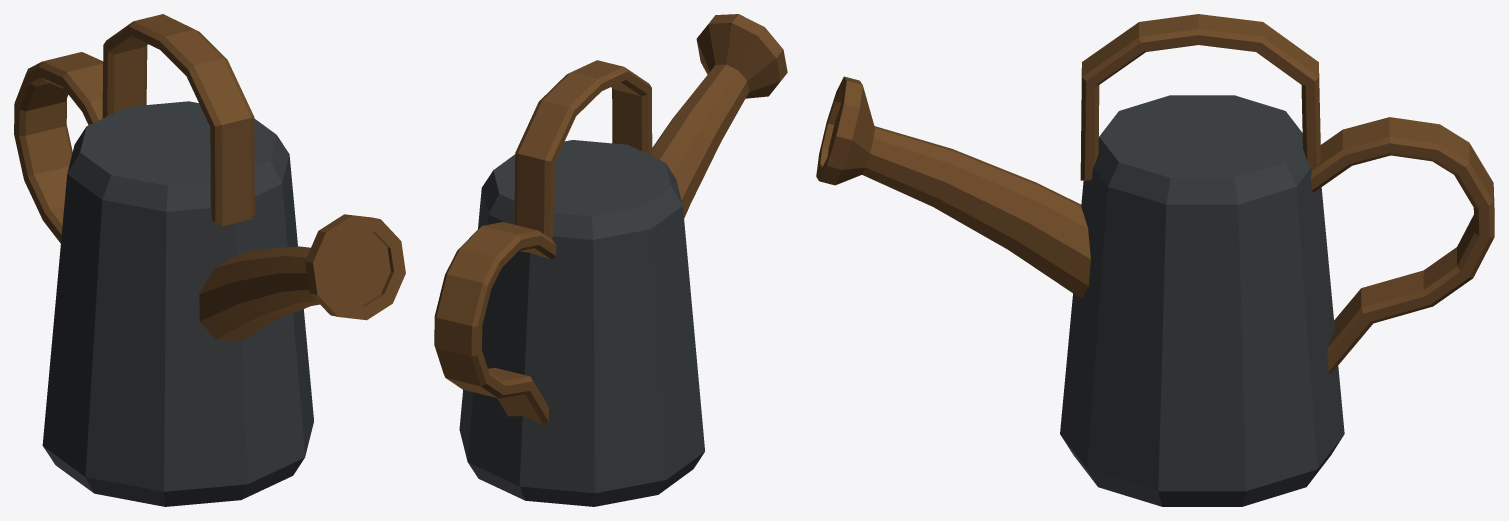
Rendered from watersprinkler_a.gltf.
3 views of the same model, side by side, from view 1: azimuth 30°, elevation 25°; view 2: azimuth 150°, elevation 25°; view 3: azimuth 270°, elevation 25° (orthographic). The views are drawn at different scales.
Visible parts, largest first — view 1: watersprinkler_a001; view 2: watersprinkler_a001; view 3: watersprinkler_a001.
Boxes of the visible parts, x1,y1,x2,y2 form: watersprinkler_a001: (14,14,405,506); watersprinkler_a001: (434,14,787,506); watersprinkler_a001: (816,14,1494,506).
Size of the model in its own units: 0.2341 by 0.4135 by 0.5866.
1 material, 1 textured.
